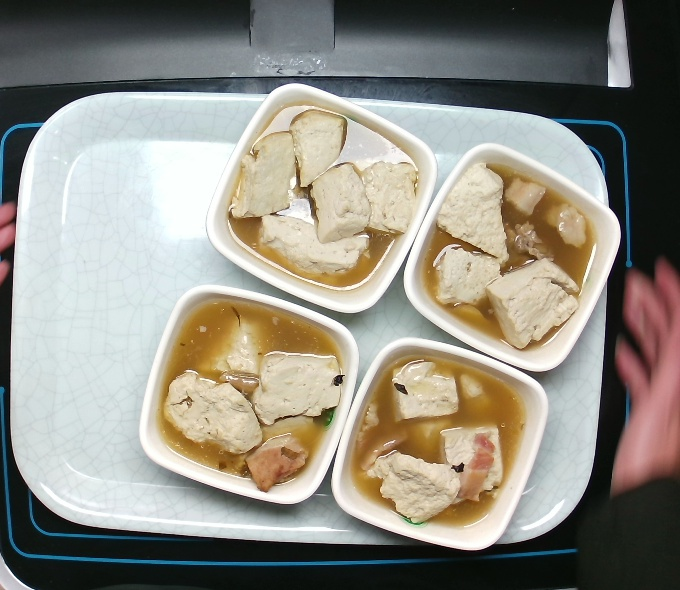wcq-DouFuRouTang: (153, 289, 344, 491), (328, 346, 530, 533), (401, 164, 603, 351), (220, 102, 422, 289)
